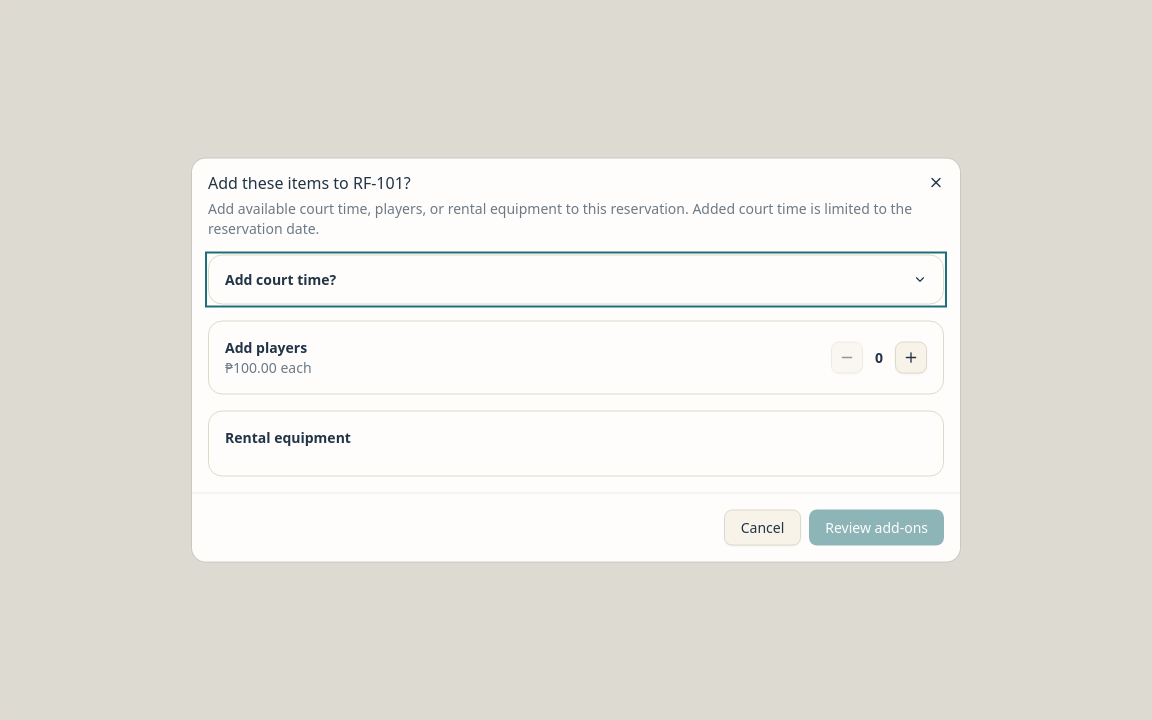
Scenario: AddOnsDialog › keeps the booking date visible when reviewing add-ons
Click the button named "Add one additional player" at (911, 358), box [895, 342, 927, 374]
(page scrolled)
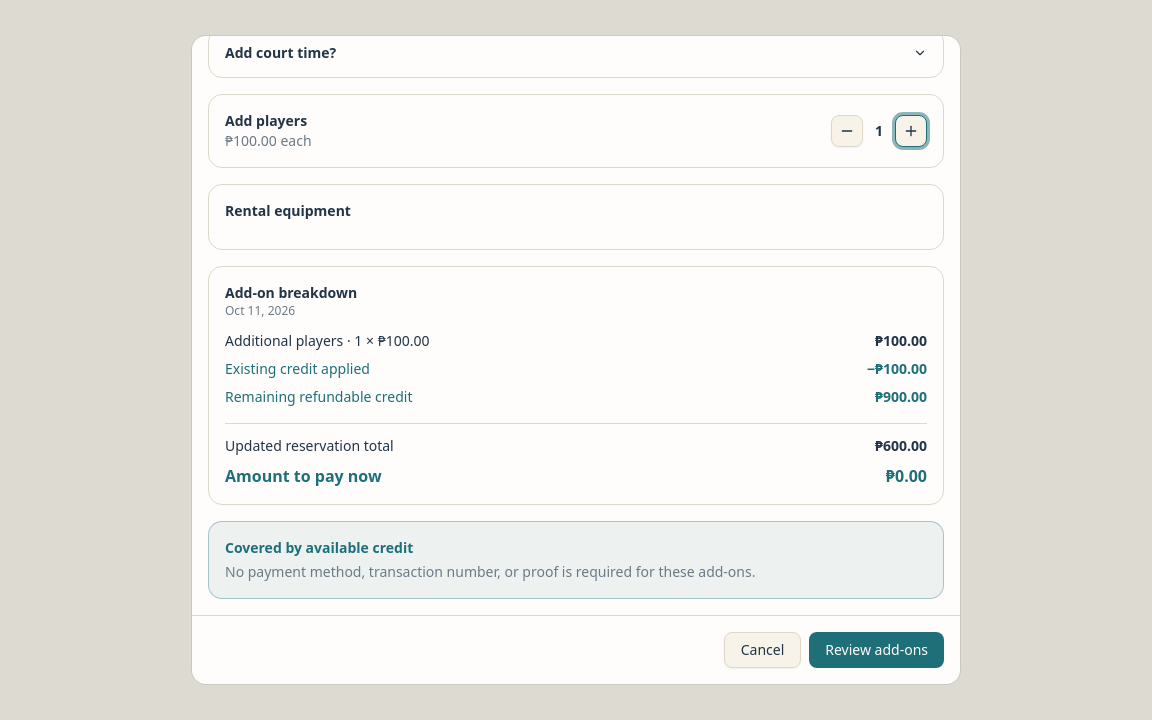
Click the button "Review add-ons" at (877, 650), box [809, 632, 944, 668]
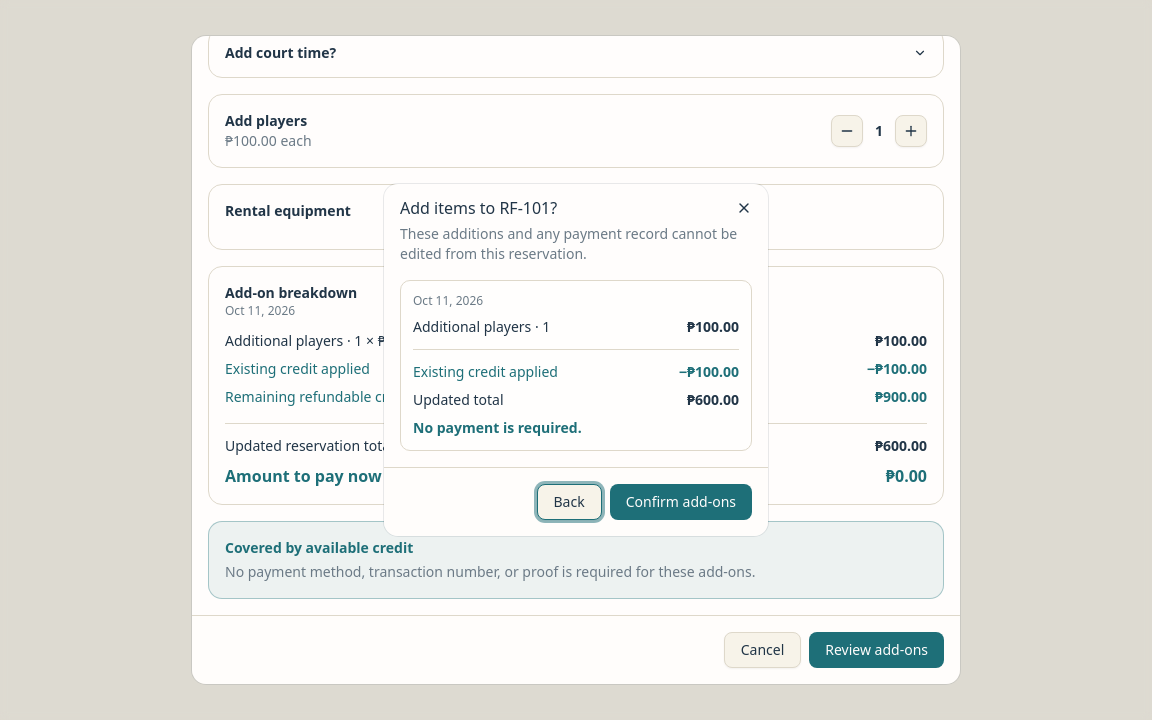
Expected: the button "Confirm add-ons" is shown, [610, 484, 752, 520]
Expected: the text "Oct 11, 2026" is shown, [413, 292, 483, 309]
